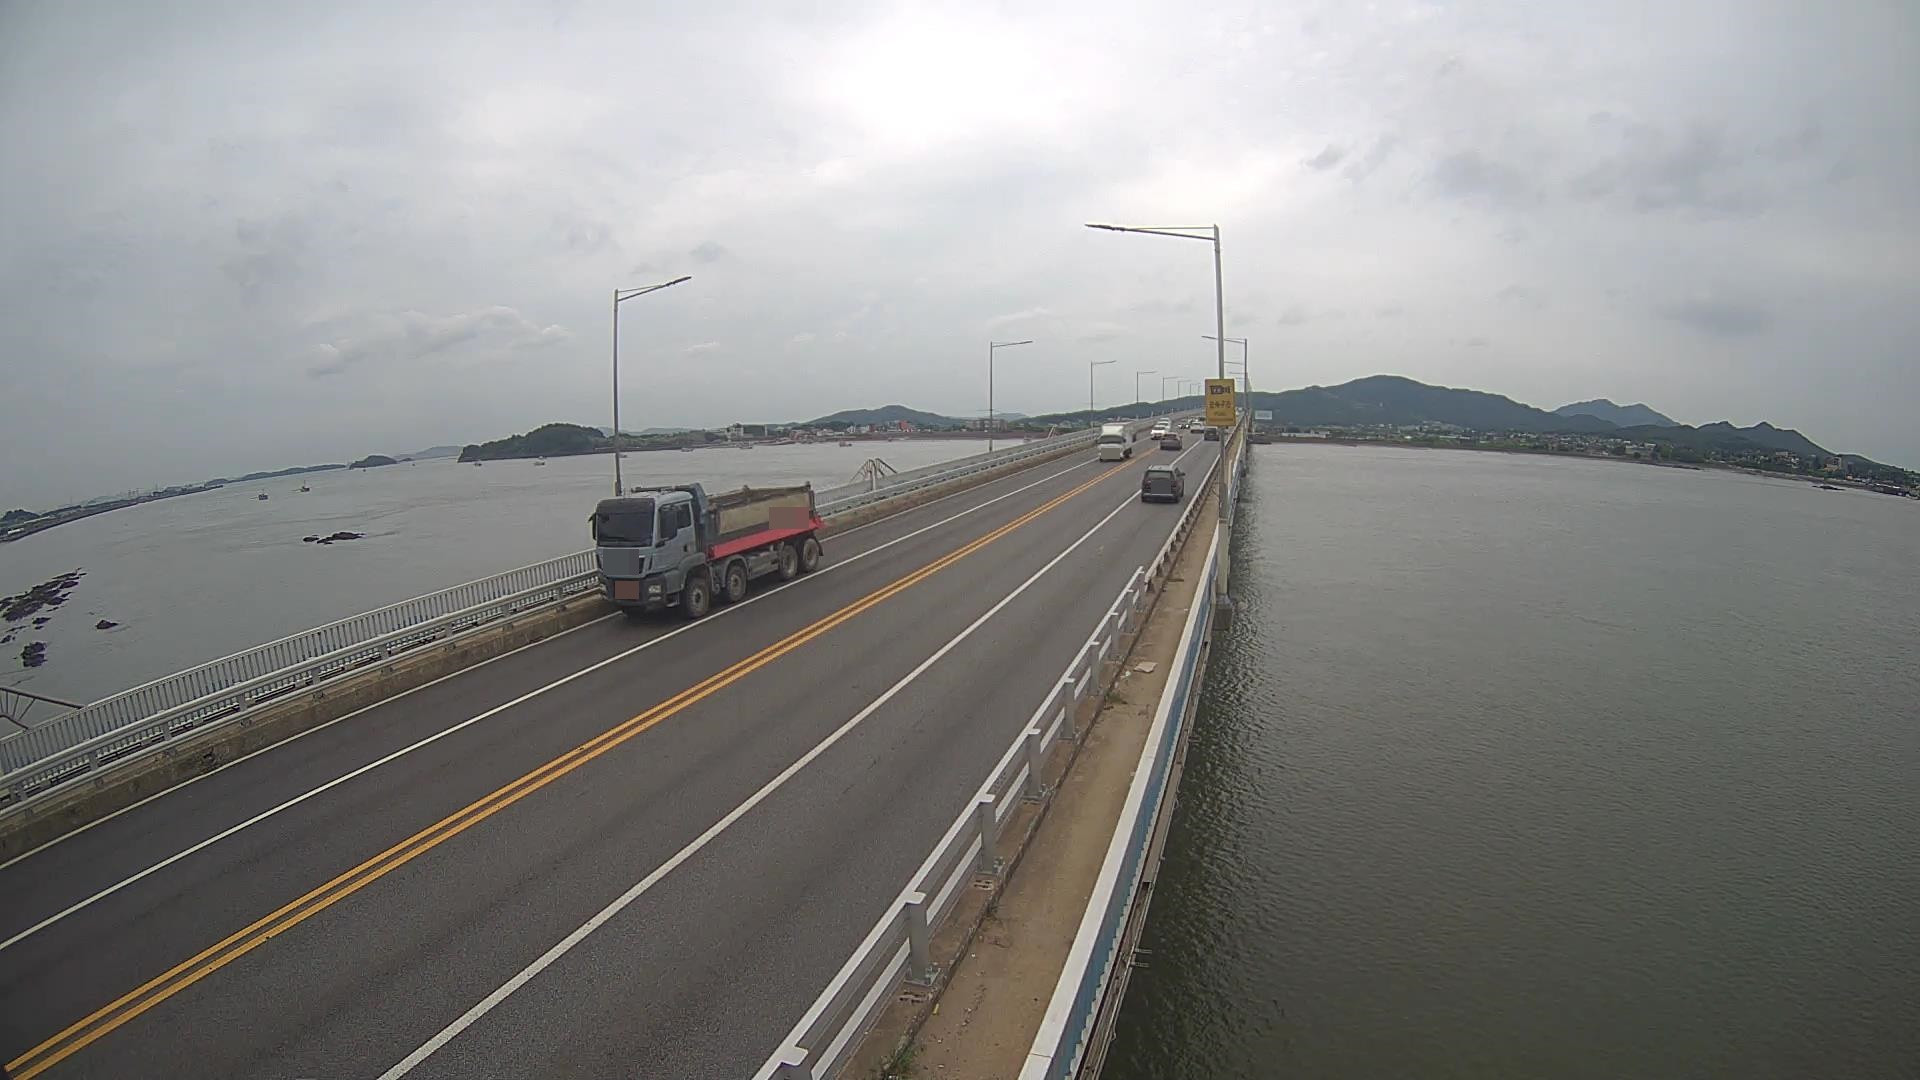정상차량: (587, 480, 825, 617)
